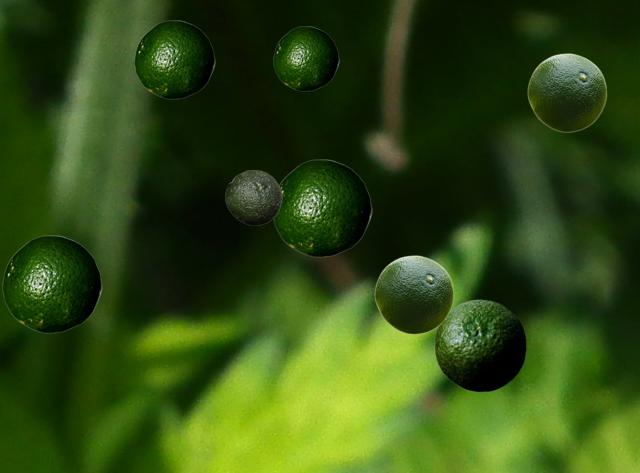calamansi: (2, 235, 101, 332), (273, 159, 371, 256), (434, 299, 525, 391), (134, 20, 214, 98), (527, 53, 606, 131), (374, 255, 453, 333), (273, 26, 338, 90), (225, 170, 281, 224)
